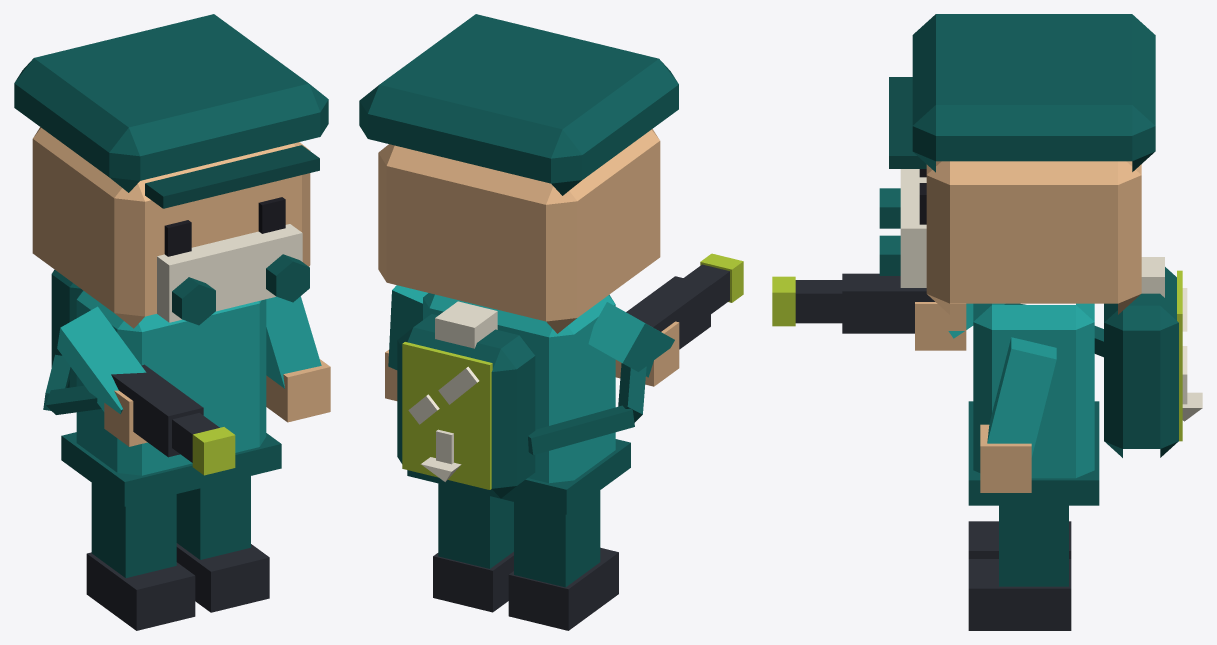
File: weakener_common.glb
3 views of the same model, side by side, from view 1: azimuth 30°, elevation 25°; view 2: azimuth 150°, elevation 25°; view 3: azimuth 270°, elevation 25° (orthographic). The views are drawn at different scales.
Visible parts, largest first — view 1: weakener_common_mesh; view 2: weakener_common_mesh; view 3: weakener_common_mesh.
Boxes of the visible parts, x1=… form: weakener_common_mesh: x1=14, y1=14, x2=330, y2=630; weakener_common_mesh: x1=359, y1=14, x2=743, y2=630; weakener_common_mesh: x1=772, y1=14, x2=1202, y2=630.
Bounding box in the file's own units: 0.6712 × 1.3 × 0.9426.
Materials: 1 (1 with a texture image).
